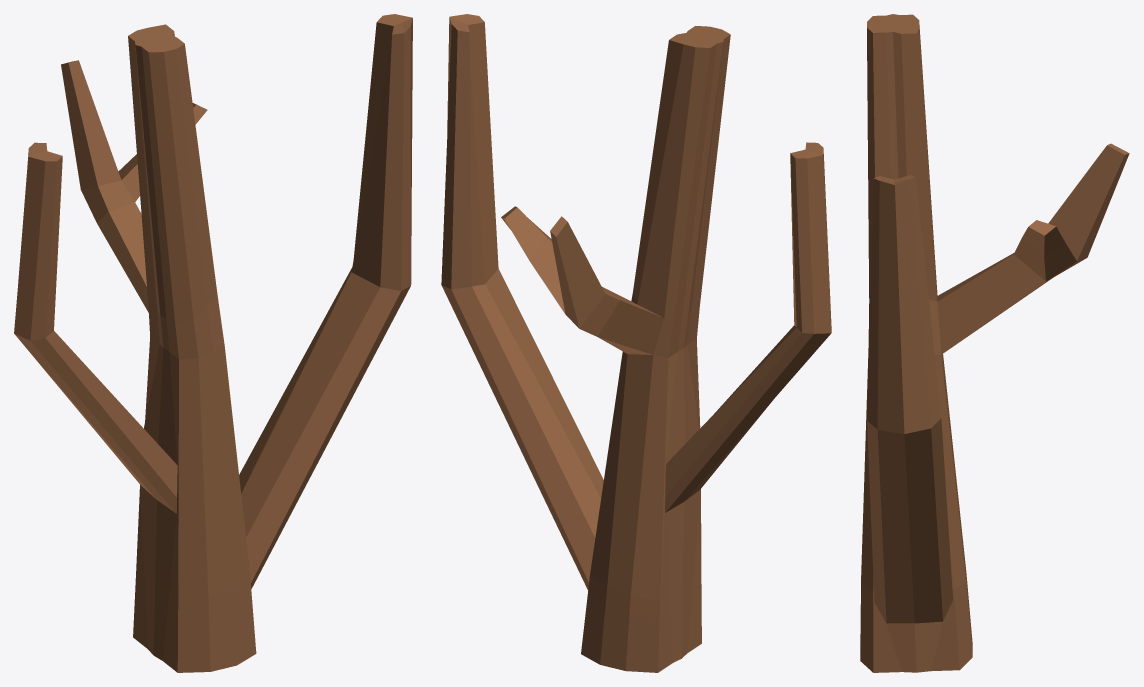
The model's file is tree-dead-trunk-13-037.glb.
The picture shows the model from 3 angles, left to right: view 1: azimuth 30°, elevation 25°; view 2: azimuth 150°, elevation 25°; view 3: azimuth 270°, elevation 25°; orthographic projection. The views are drawn at different scales.
Parts seen in each view (by area): view 1: TREE 13.006_504; view 2: TREE 13.006_504; view 3: TREE 13.006_504.
Boxes of the visible parts, <box> form: TREE 13.006_504: <box>14,14,412,672</box>; TREE 13.006_504: <box>441,14,831,672</box>; TREE 13.006_504: <box>860,14,1129,672</box>.
Bounding box in the file's own units: 0.7276 × 1.11 × 0.4458.
